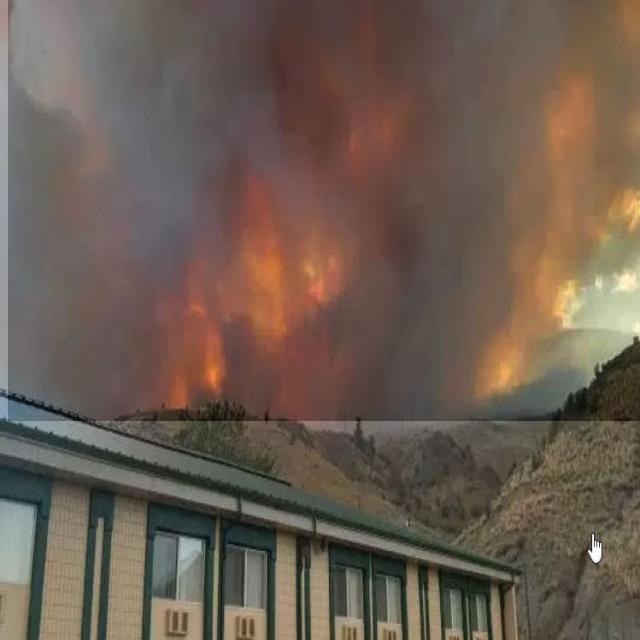Smoke: (8, 0, 640, 421)
